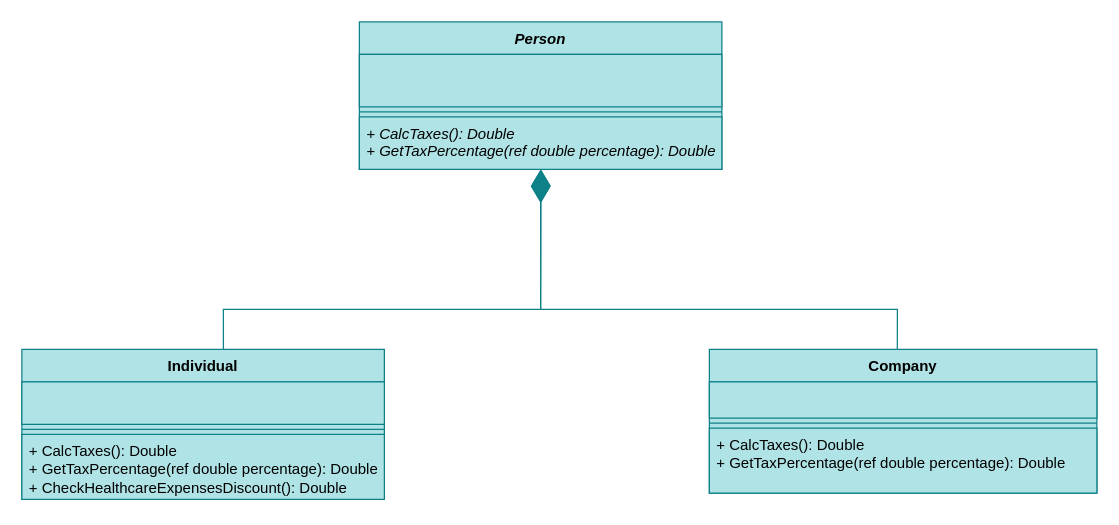
Image size: 1119x525. Some labels were removed from this diagram. The centre of each missing label's shape, as x and y in pixels:
"- HealthcareExpenses: Double" goes at (202,402).
"- Name: String - AnnualIncome: Double" goes at (540,80).
"- NumberOfEmployees: Integer" goes at (902,399).
